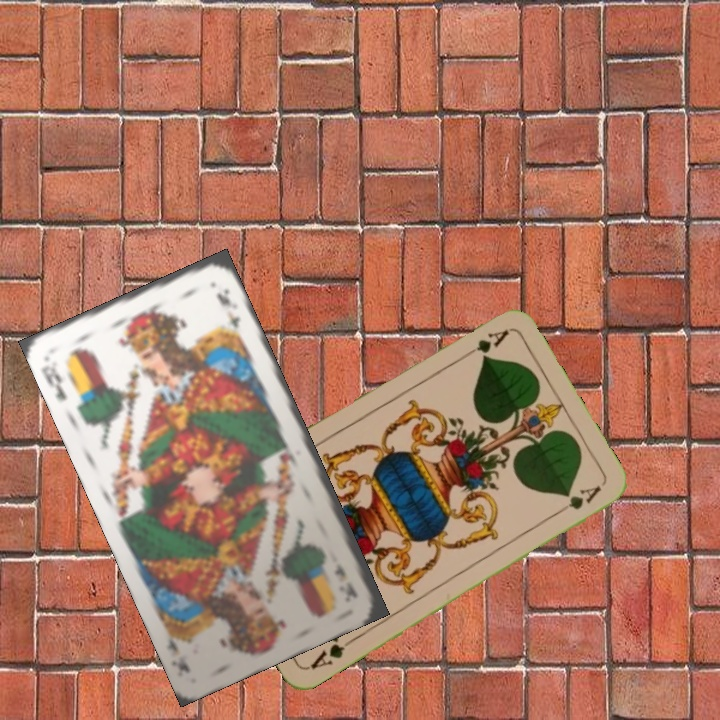EK: (331, 560, 361, 603), (38, 363, 69, 403)
GA: (306, 632, 358, 672), (457, 325, 512, 362)
